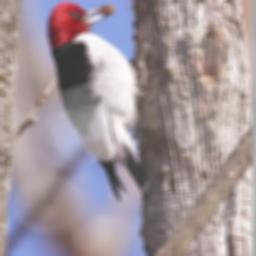Woodpecker: (47, 1, 151, 199)
